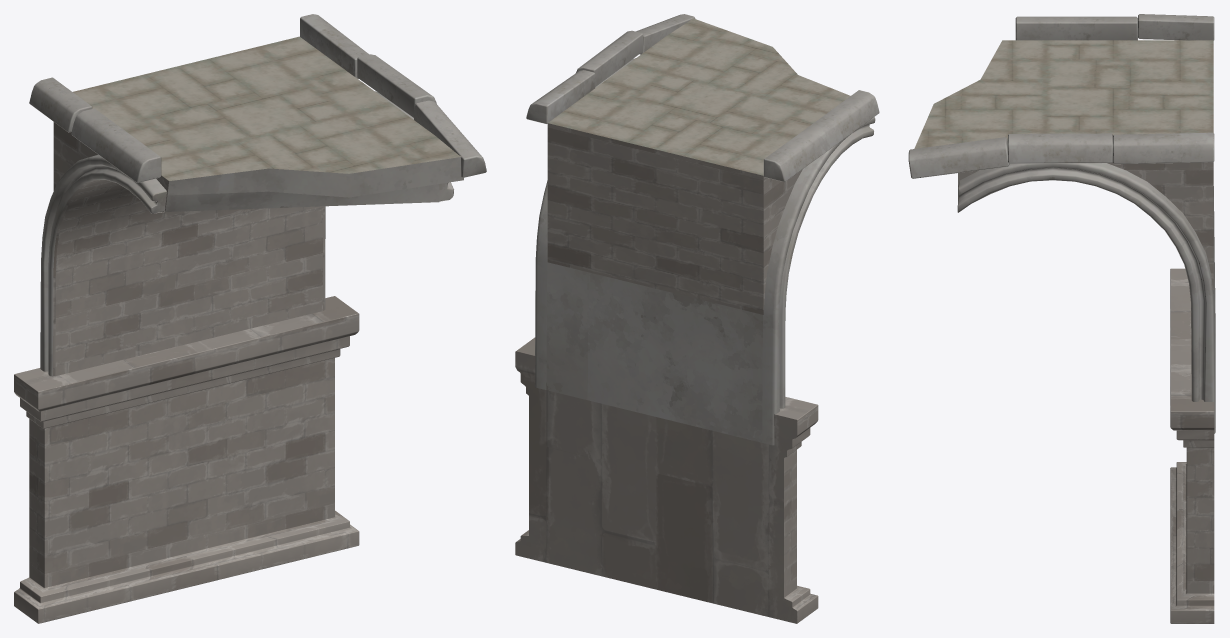
The model's file is SM_Bridge_Ruin.fbx.
The picture shows the model from 3 angles, left to right: view 1: azimuth 30°, elevation 25°; view 2: azimuth 150°, elevation 25°; view 3: azimuth 270°, elevation 25°; orthographic projection. The views are drawn at different scales.
Parts seen in each view (by area): view 1: SM_Bridge_Ruin_LOD0; view 2: SM_Bridge_Ruin_LOD0; view 3: SM_Bridge_Ruin_LOD0.
Part boxes in pixels (x1,y1,x2,y2): SM_Bridge_Ruin_LOD0: (14,14,486,623); SM_Bridge_Ruin_LOD0: (515,14,879,623); SM_Bridge_Ruin_LOD0: (908,14,1215,623).
Bounding box in the file's own units: 940 × 851 × 1460.
Materials: 3 (3 with a texture image).
